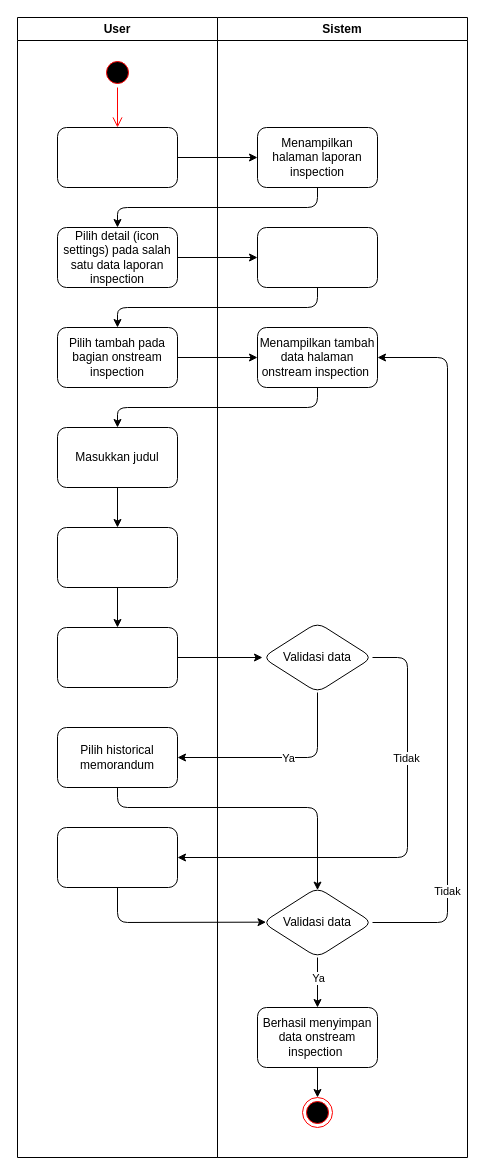
Some shapes in this 485 by 1175 pixel diagram are drawn without their labels. The centre of each missing label's shape, as x and y in pixels:
"Masukkan inspection date" goes at point 117,557.
"Menampilkan halaman onstream inspection" goes at point 317,257.
"Pilih fitur laporan inspection" goes at point 117,157.
"Pilih memo" goes at point 117,657.
"Unggah laporan file" goes at point 117,857.
